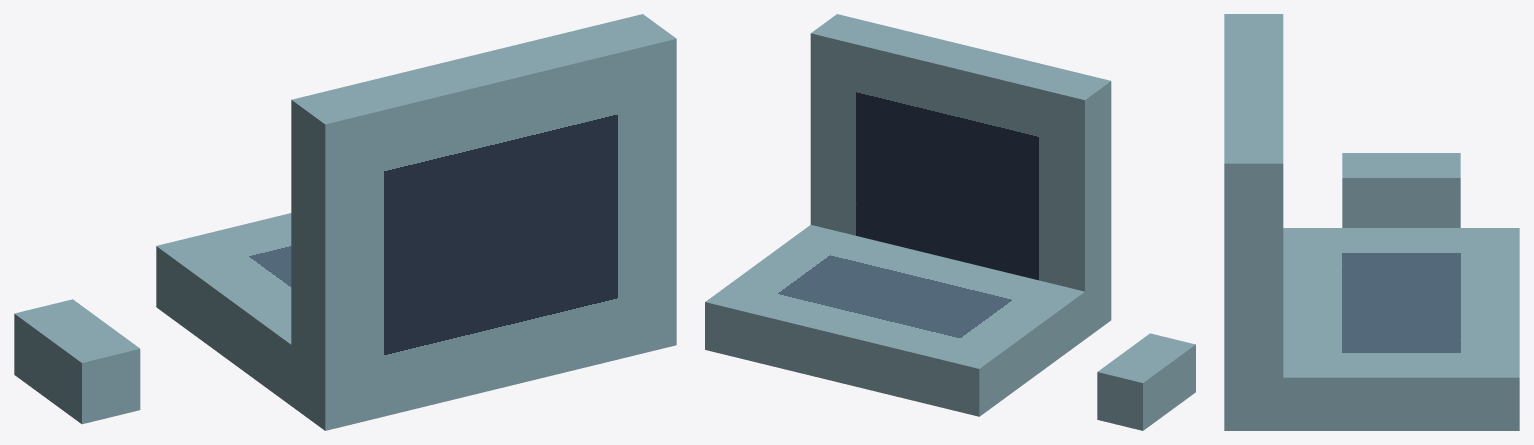
Rendered from laptop.obj.
The picture shows the model from 3 angles, left to right: view 1: azimuth 30°, elevation 25°; view 2: azimuth 150°, elevation 25°; view 3: azimuth 270°, elevation 25°; orthographic projection. The views are drawn at different scales.
Parts seen in each view (by area): view 1: laptop; view 2: laptop; view 3: laptop.
Boxes of the visible parts, x1,y1,x2,y2 form: laptop: (14, 14, 676, 430); laptop: (705, 14, 1195, 430); laptop: (1224, 14, 1519, 430).
Bounding box in the file's own units: 0.9 × 0.5 × 0.5.
